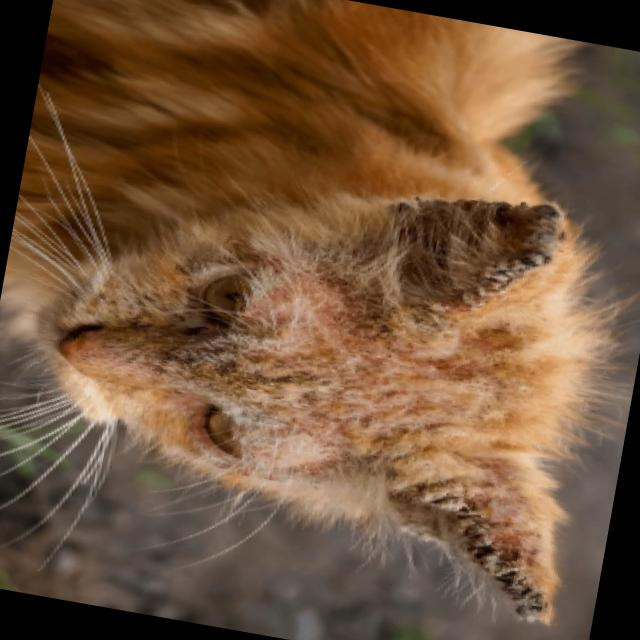Mange: (478, 192, 570, 281), (165, 308, 264, 376), (471, 548, 556, 626), (372, 178, 471, 230), (410, 474, 487, 539), (440, 262, 514, 328)
